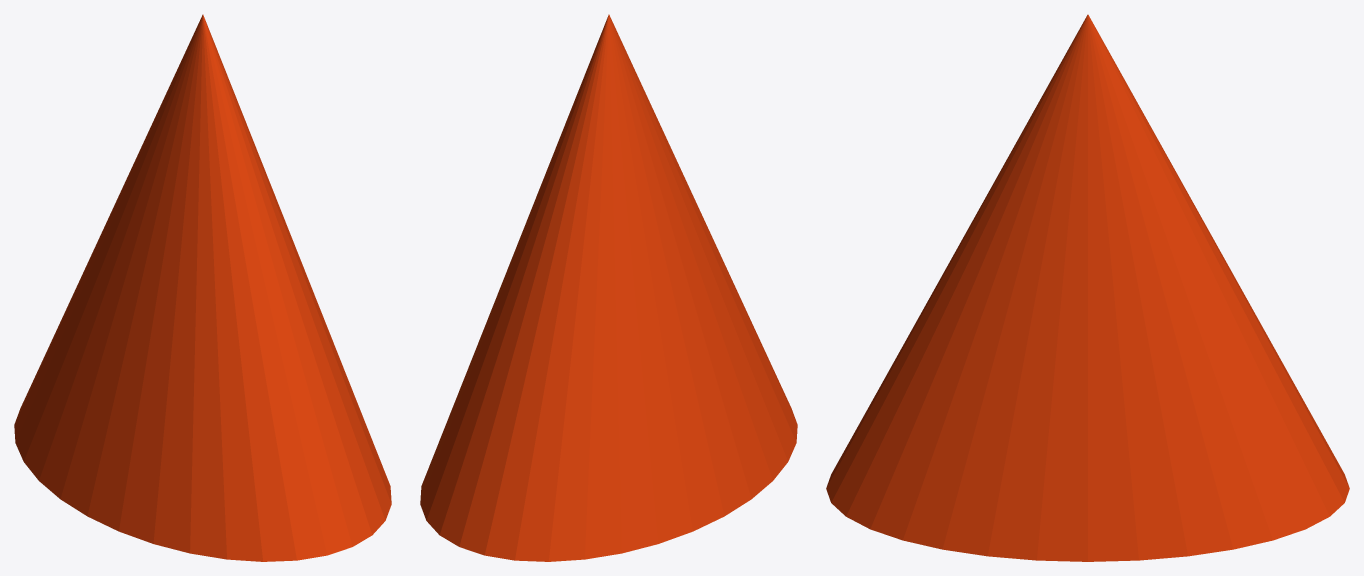
Rendered from TrafficCone.fbx.
The picture shows the model from 3 angles, left to right: view 1: azimuth 30°, elevation 25°; view 2: azimuth 150°, elevation 25°; view 3: azimuth 270°, elevation 25°; orthographic projection. The views are drawn at different scales.
Visible parts, largest first — view 1: Cone; view 2: Cone; view 3: Cone.
Boxes of the visible parts, bbox=[...] form: Cone: bbox=[14, 14, 391, 561]; Cone: bbox=[420, 14, 797, 561]; Cone: bbox=[826, 14, 1349, 561].
Bounding box in the file's own units: 200 × 302 × 302.
